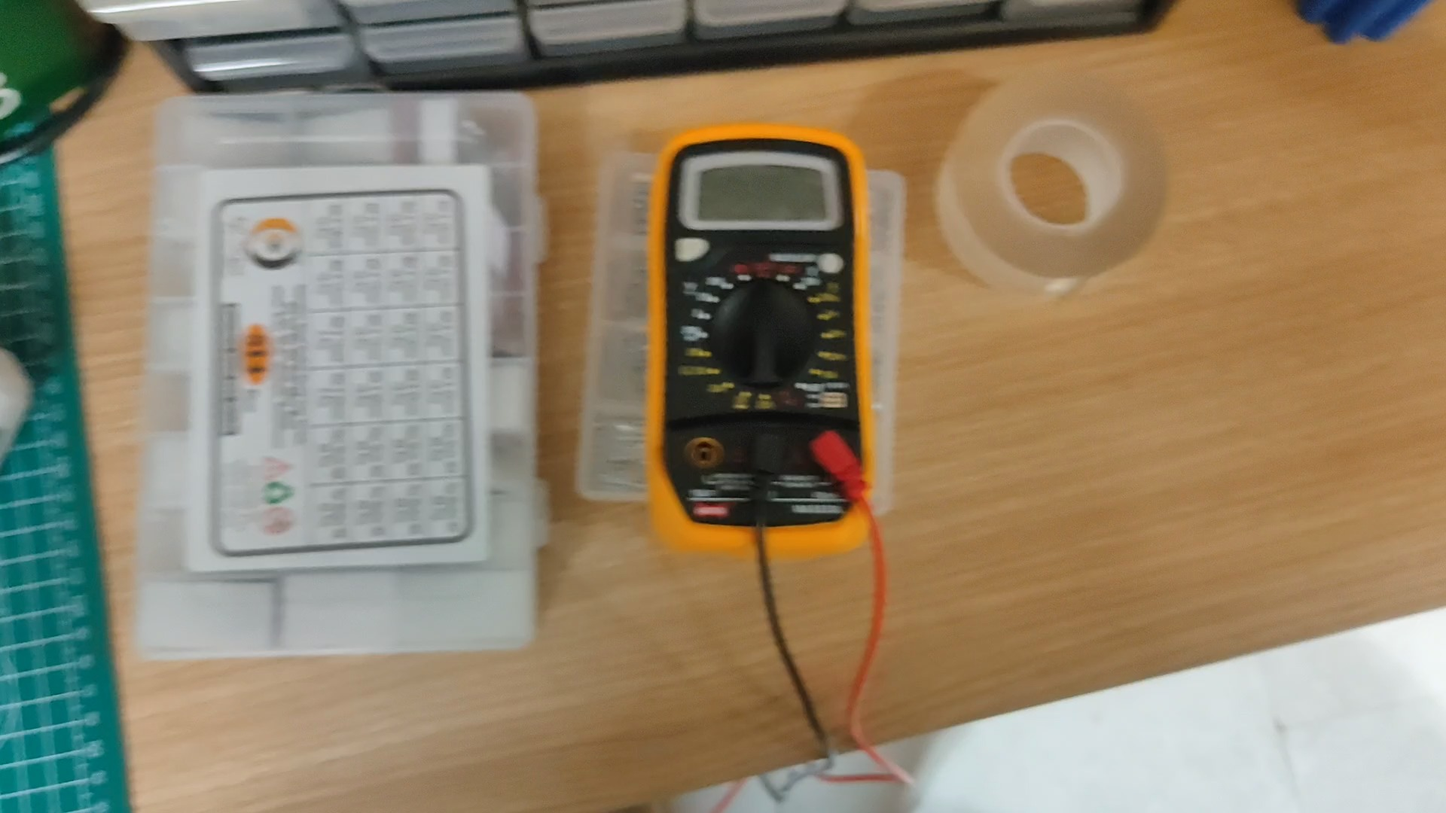multimeter: (642, 124, 886, 750)
